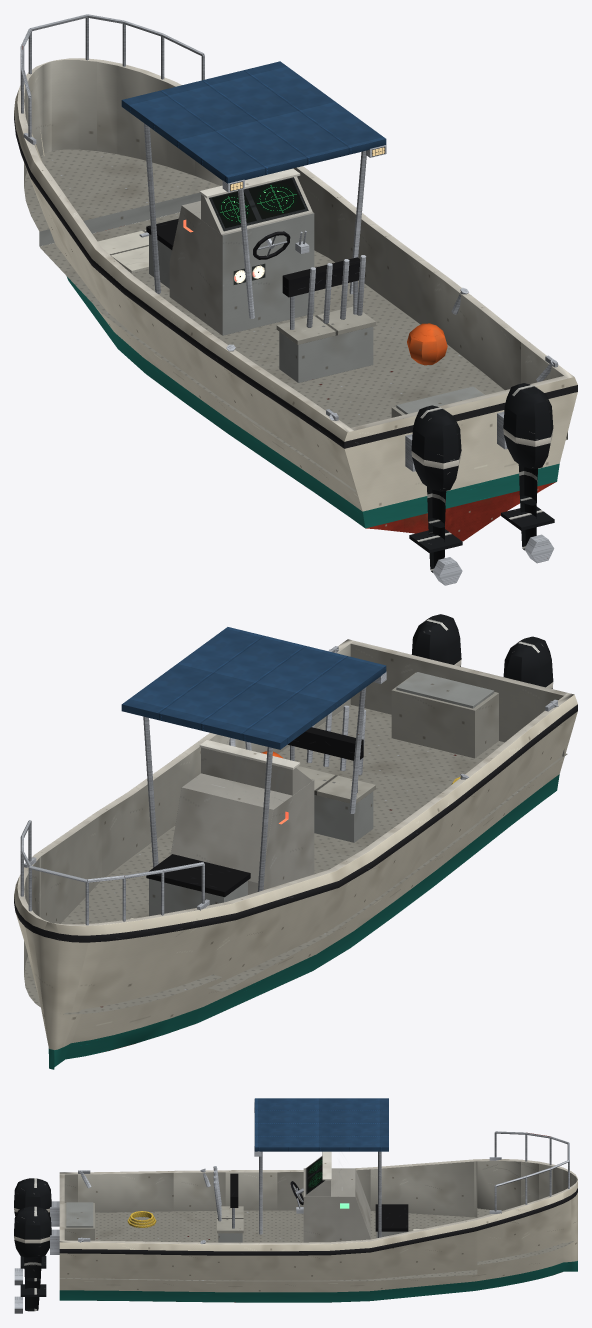
The model's file is skiff.glb.
3 views of the same model, one above another, from view 1: azimuth 30°, elevation 25°; view 2: azimuth 150°, elevation 25°; view 3: azimuth 270°, elevation 25° (orthographic). The views are drawn at different scales.
Visible parts, largest first — view 1: boat; view 2: boat; view 3: boat.
Part boxes in pixels (<box>): boat: <box>14,14,577,585</box>; boat: <box>14,614,577,1069</box>; boat: <box>14,1098,577,1313</box>.
Size of what is drawn, in the model's own units: 2.98 by 3.18 by 9.25.
24 materials, 22 textured.
